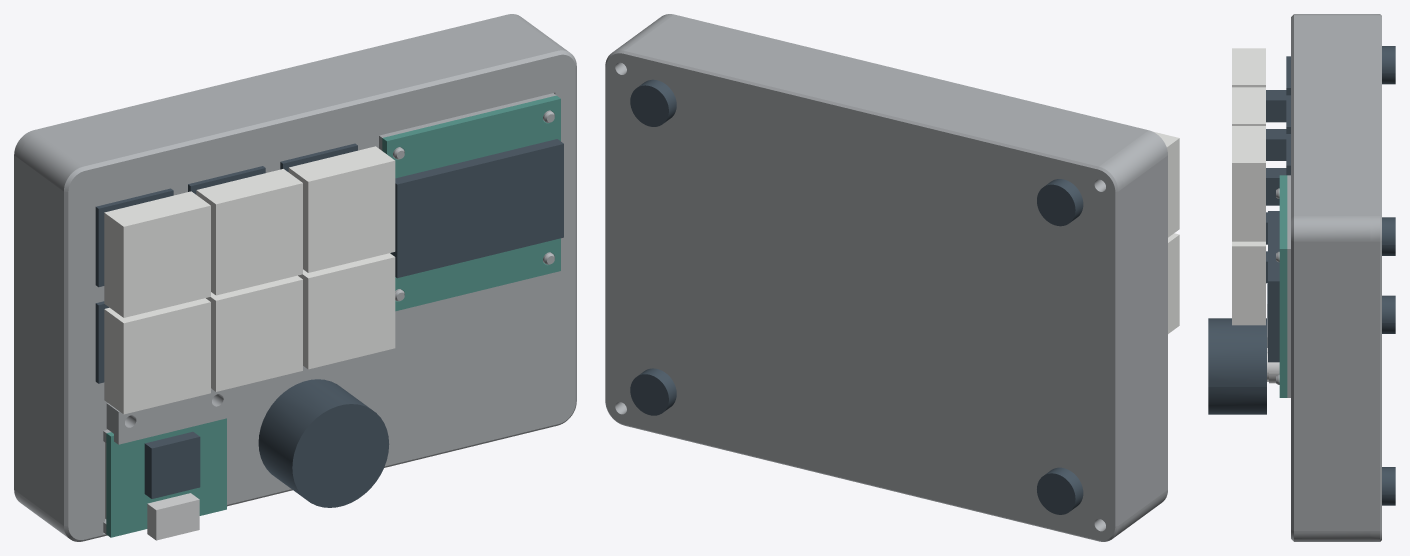
The model's file is .compact_model.step.glb.
3 views of the same model, side by side, from view 1: azimuth 30°, elevation 25°; view 2: azimuth 150°, elevation 25°; view 3: azimuth 270°, elevation 25° (orthographic). The views are drawn at different scales.
Parts seen in each view (by area): view 1: o1.1, o1.31, o1.30, o1.41, o1.19, o1.7, o1.27, o1.23, o1.15, o1.11, o1.32, o1.2 (+8 smaller); view 2: o1.2, o1.1, o1.43, o1.42, o1.44, o1.45, o1.19, o1.7; view 3: o1.1, o1.2, o1.41, o1.27, o1.15, o1.30, o1.31, o1.19, o1.23, o1.4, o1.18, o1.22 (+5 smaller).
Part boxes in pixels (<box>): o1.1: <box>19,18,576,541</box>; o1.31: <box>390,139,563,278</box>; o1.30: <box>382,95,560,311</box>; o1.41: <box>258,379,389,507</box>; o1.19: <box>104,191,210,317</box>; o1.7: <box>104,298,210,414</box>; o1.27: <box>288,146,395,272</box>; o1.23: <box>196,169,302,295</box>; o1.15: <box>298,253,395,369</box>; o1.11: <box>206,275,302,391</box>; o1.32: <box>106,418,226,537</box>; o1.2: <box>14,14,524,505</box>; o1.2: <box>605,46,1123,541</box>; o1.1: <box>619,14,1167,533</box>; o1.43: <box>630,368,676,415</box>; o1.42: <box>1037,467,1083,514</box>; o1.44: <box>1037,179,1083,226</box>; o1.45: <box>630,79,676,126</box>; o1.19: <box>1153,131,1179,237</box>; o1.7: <box>1168,233,1179,333</box>; o1.1: <box>1291,14,1370,541</box>; o1.2: <box>1370,14,1381,541</box>; o1.41: <box>1208,318,1266,414</box>; o1.27: <box>1232,126,1265,241</box>; o1.15: <box>1232,241,1265,325</box>; o1.30: <box>1279,175,1287,397</box>; o1.31: <box>1268,211,1279,362</box>; o1.19: <box>1232,48,1265,87</box>; o1.23: <box>1232,87,1265,125</box>; o1.4: <box>1276,175,1290,397</box>; o1.18: <box>1266,56,1290,122</box>; o1.22: <box>1266,95,1290,160</box>.
Size of the model in its own units: 0.106 by 0.074 by 0.0387.
